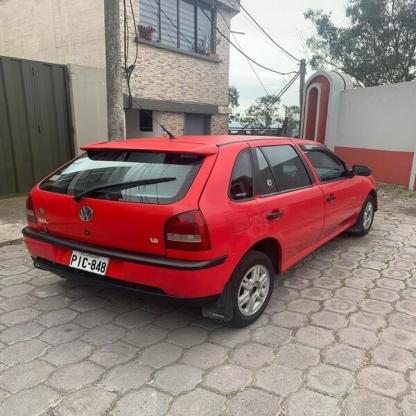Placa: (67, 245, 112, 280)
